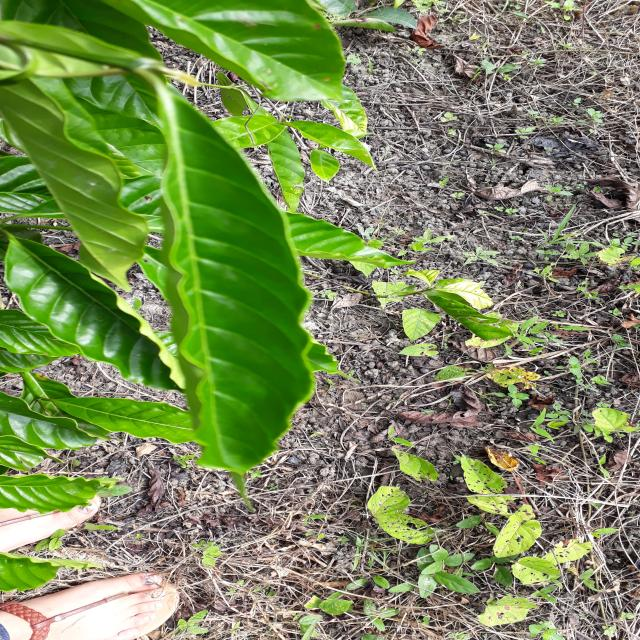Sanas: (135, 67, 334, 477)
